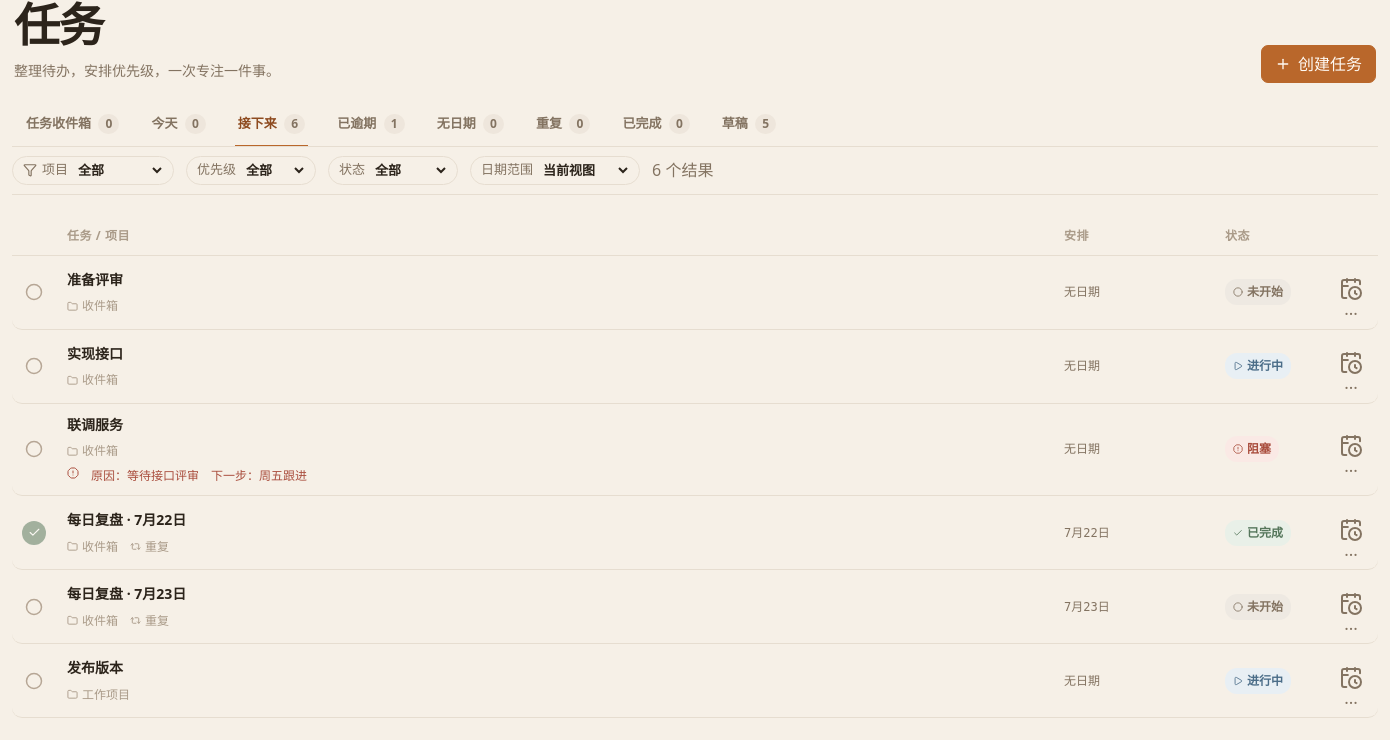
Test: Task occurrence workspace › shows a visible error and preserves the selected date when reschedule fails
This screenshot has width=1390, height=740.
Click the button named "改期准备评审".
click(1351, 292)  # box x1=1336 y1=277 x2=1366 y2=307
(page scrolled)
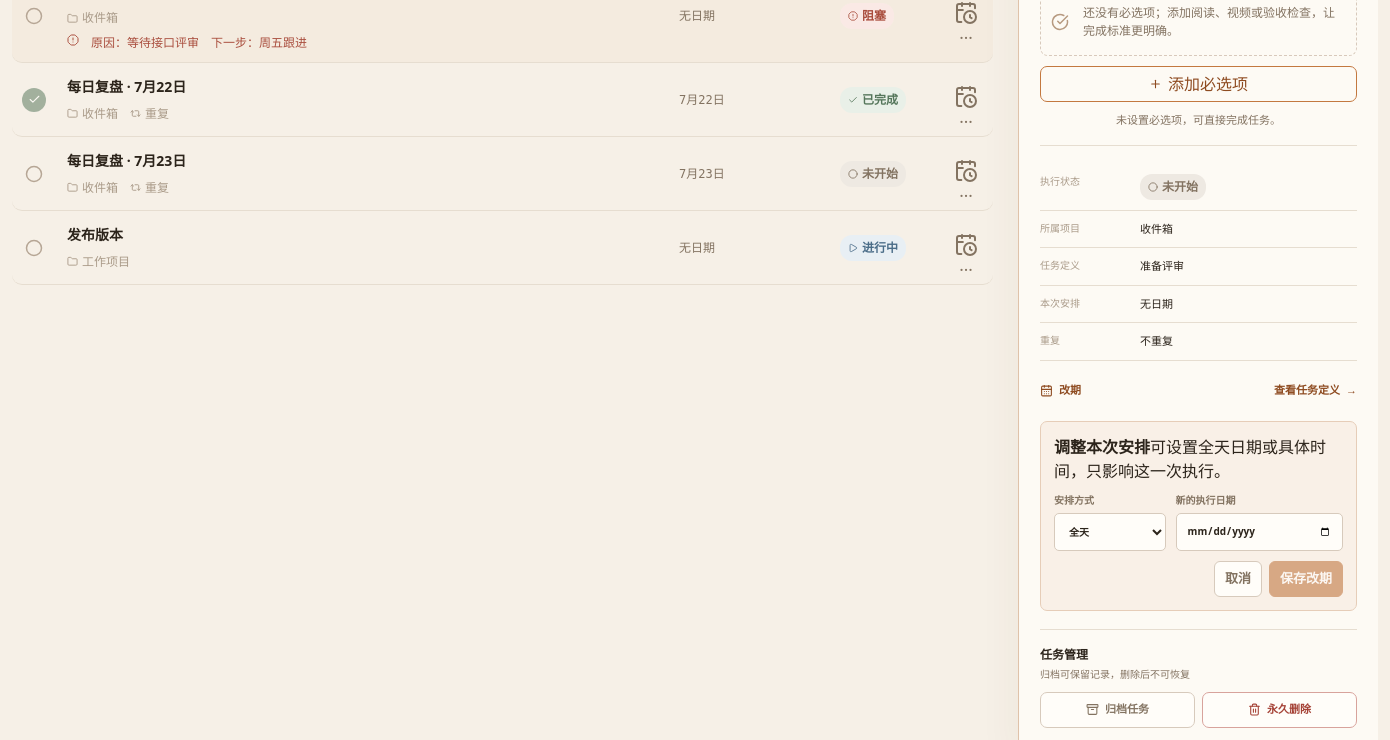
Type "2026-07-25" into the date field labelled "新的执行日期".
click(1259, 532); type("2026-07-25")  # box x1=1176 y1=513 x2=1343 y2=551
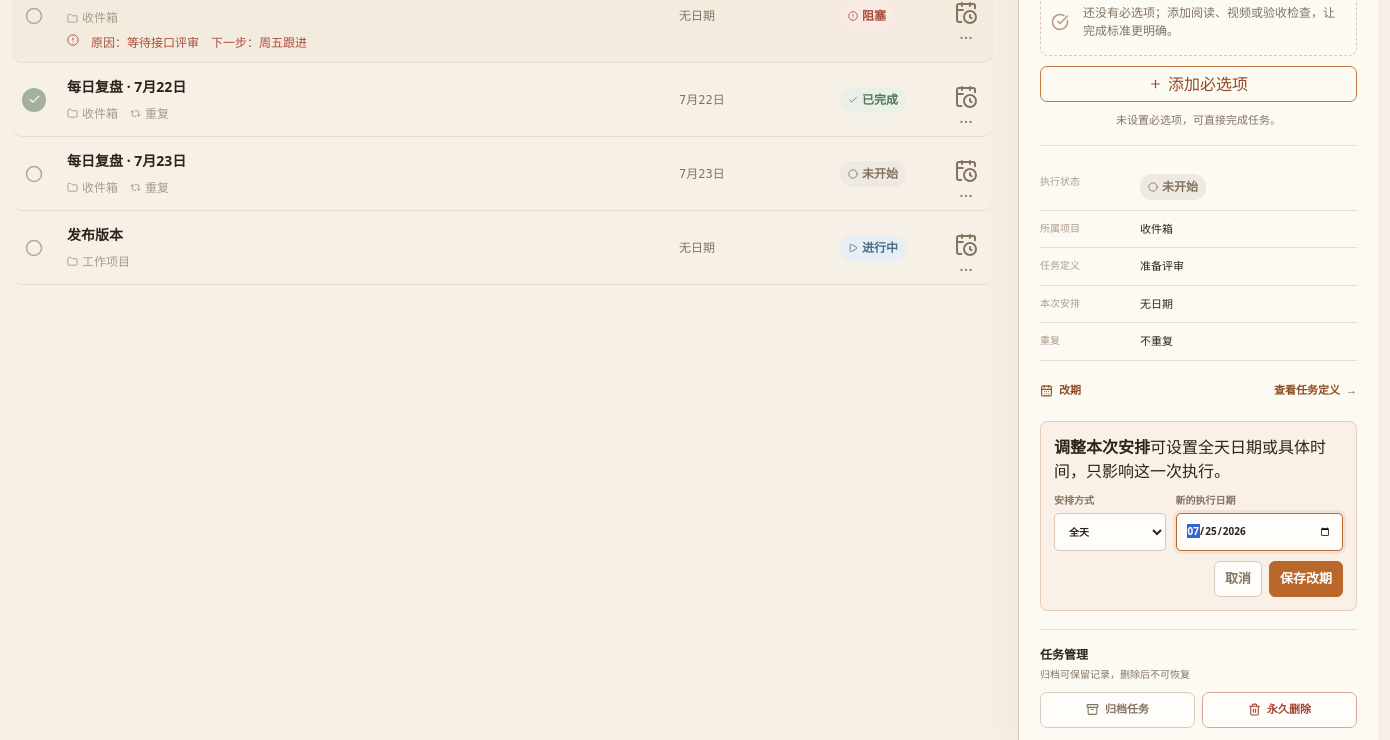
Click the button "保存改期".
click(1306, 579)  # box x1=1269 y1=561 x2=1343 y2=597
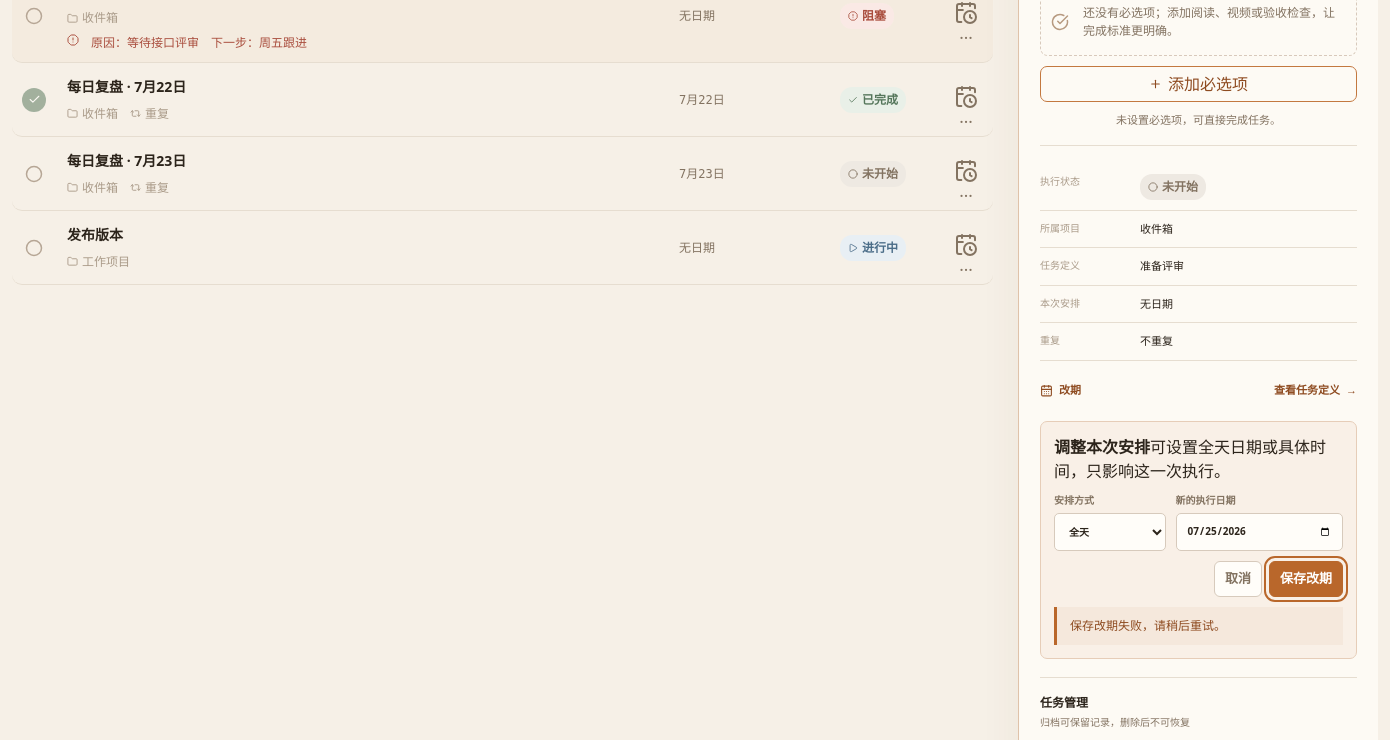
Now the message reads "保存改期失败，请稍后重试。", box x1=1070 y1=617 x2=1226 y2=634
